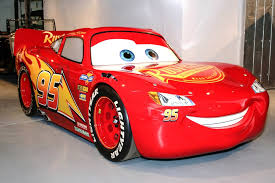mcqueen: (13, 25, 271, 163)
